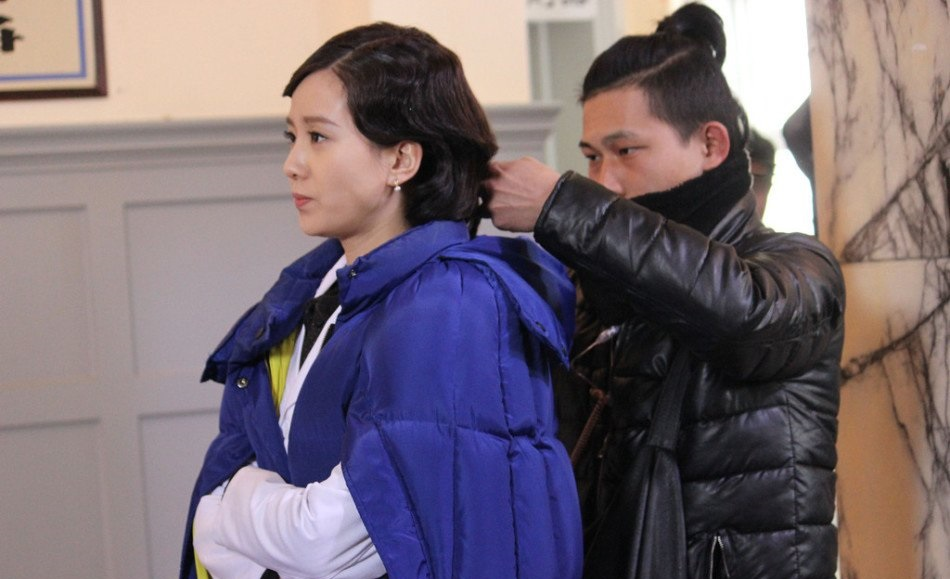face: (281, 72, 375, 240), (580, 100, 665, 220)
